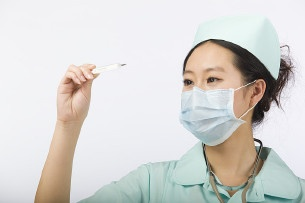Mask: (177, 66, 256, 145)
